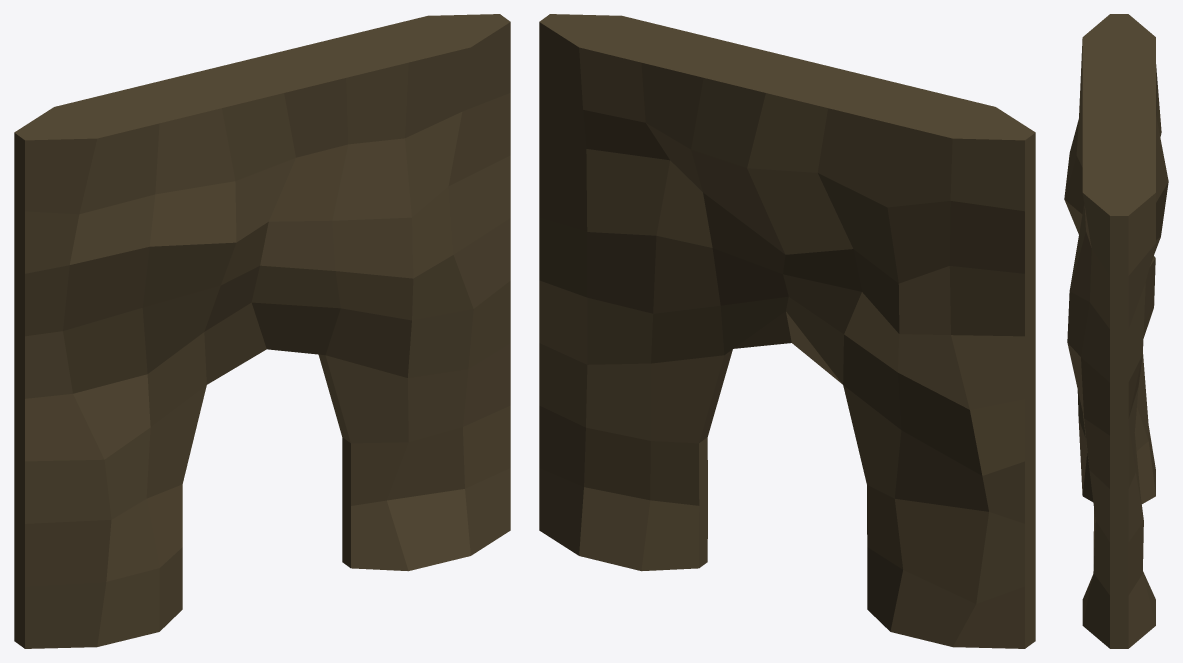
Rendered from BigOpening.M.fbx.
3 renders of one model, left to right at view 1: azimuth 30°, elevation 25°; view 2: azimuth 150°, elevation 25°; view 3: azimuth 270°, elevation 25°, orthographic. The views are drawn at different scales.
Visible parts, largest first — view 1: Big_Wall Opening.M; view 2: Big_Wall Opening.M; view 3: Big_Wall Opening.M.
Part boxes in pixels (box(x1,y1,x2,y2)): Big_Wall Opening.M: box(14, 14, 510, 648); Big_Wall Opening.M: box(539, 14, 1035, 648); Big_Wall Opening.M: box(1064, 14, 1168, 648).
Size of the model in its own units: 1299 by 1300 by 284.
